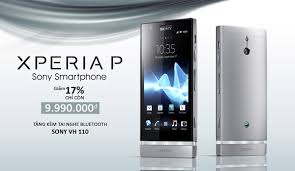sony: (136, 18, 196, 171), (214, 24, 265, 154)
